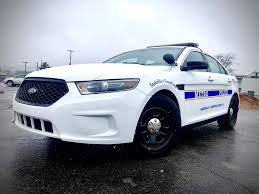special: (11, 42, 242, 156)
